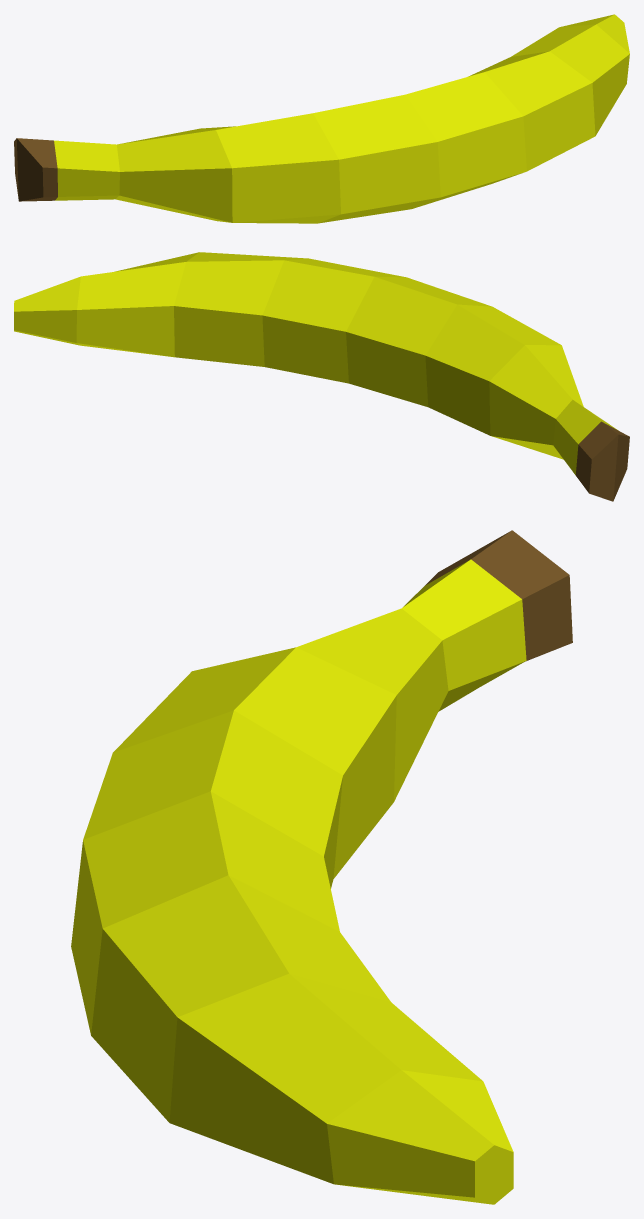
Rendered from Banana.glb.
The picture shows the model from 3 angles, top to bottom: view 1: azimuth 30°, elevation 25°; view 2: azimuth 150°, elevation 25°; view 3: azimuth 270°, elevation 25°; orthographic projection. The views are drawn at different scales.
Visible parts, largest first — view 1: Banana; view 2: Banana; view 3: Banana.
Boxes of the visible parts, <box> form: Banana: <box>14,14,629,223</box>; Banana: <box>14,252,629,501</box>; Banana: <box>71,530,572,1204</box>.
Bounding box in the file's own units: 0.3009 × 0.0529 × 0.1093.
